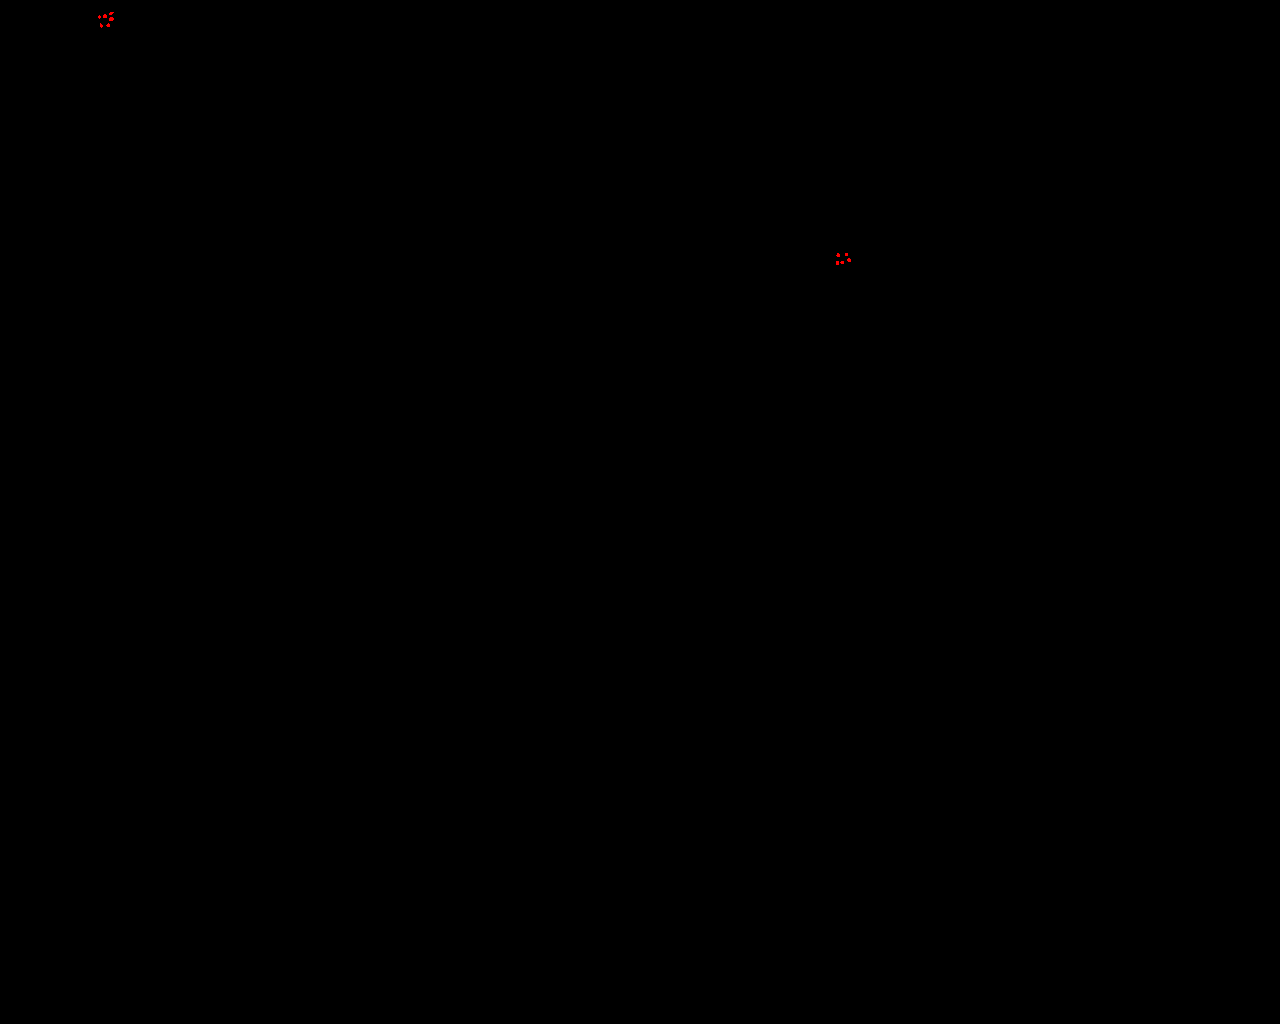Target: (109, 17, 114, 21), (106, 23, 110, 27), (836, 253, 840, 257), (109, 11, 114, 15), (100, 23, 103, 28), (103, 14, 107, 18), (98, 15, 101, 19), (847, 258, 851, 262), (836, 261, 839, 265), (840, 261, 844, 264), (845, 253, 848, 256)
